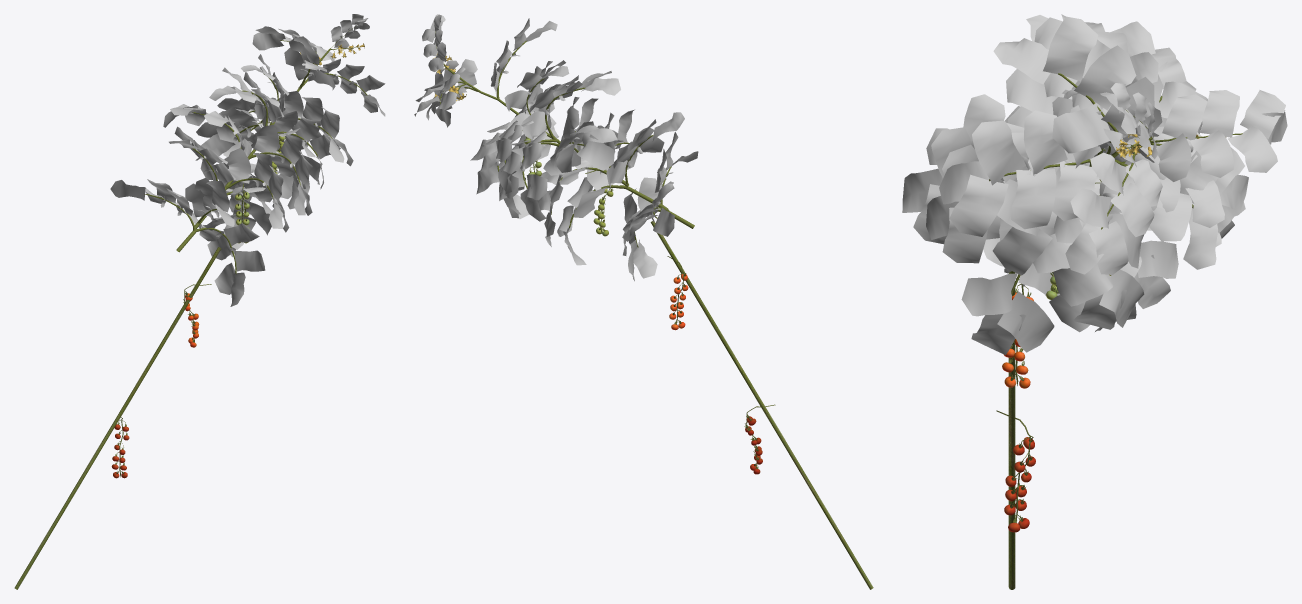
The model's file is tomato_vine_repo_v4.dae.
3 renders of one model, left to right at view 1: azimuth 30°, elevation 25°; view 2: azimuth 150°, elevation 25°; view 3: azimuth 270°, elevation 25°, orthographic. The views are drawn at different scales.
Parts seen in each view (by area): view 1: Leaf1, Branch1; view 2: Leaf1, Branch1; view 3: Leaf1, Branch1, Sphere.001, Sphere.013.
Part boxes in pixels (x1,y1,x2,y2): Leaf1: (110,14,385,306); Branch1: (14,25,367,589); Leaf1: (414,14,698,281); Branch1: (434,31,873,589); Leaf1: (902,14,1287,354); Branch1: (989,73,1242,589); Sphere.001: (1004,437,1035,532); Sphere.013: (1002,292,1033,388).
Size of the model in its own units: 2.01 by 0.9621 by 2.3.
